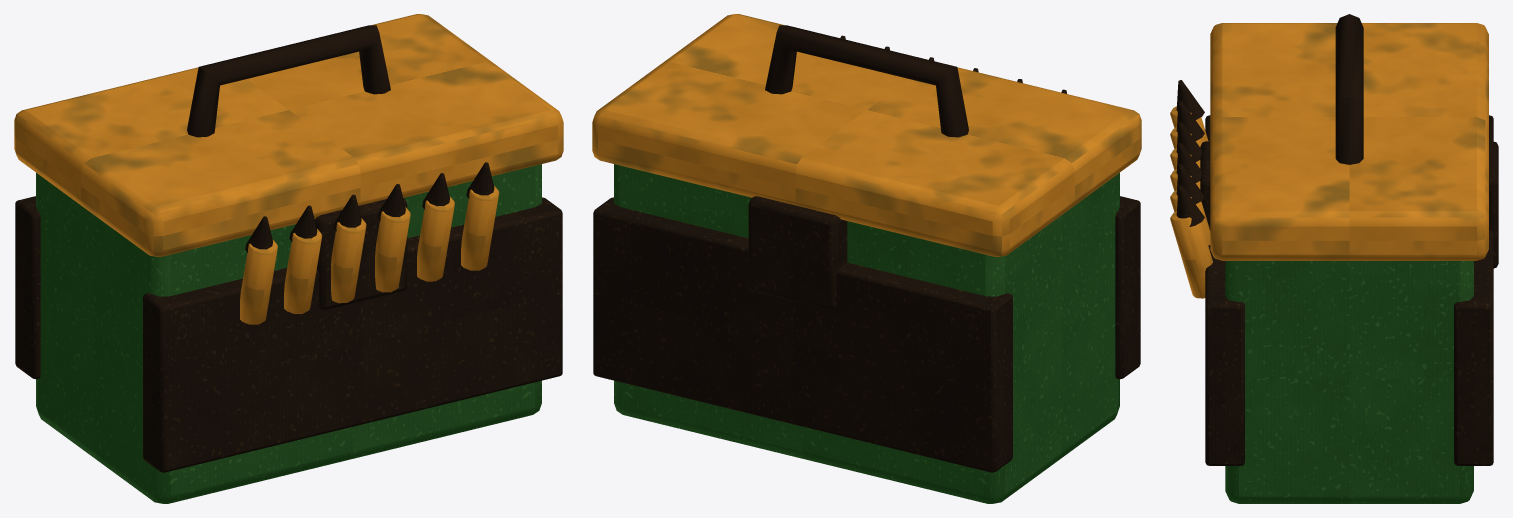
The model's file is powerup_max_ammo.glb.
3 renders of one model, left to right at view 1: azimuth 30°, elevation 25°; view 2: azimuth 150°, elevation 25°; view 3: azimuth 270°, elevation 25°, orthographic. The views are drawn at different scales.
Visible parts, largest first — view 1: MaxAmmo; view 2: MaxAmmo; view 3: MaxAmmo.
Part boxes in pixels (left/top/right/bottom): MaxAmmo: left=14, top=14, right=563, bottom=503; MaxAmmo: left=592, top=14, right=1141, bottom=503; MaxAmmo: left=1170, top=14, right=1498, bottom=503.
Bounding box in the file's own units: 0.47 × 0.4007 × 0.3303.
3 materials, 3 textured.
